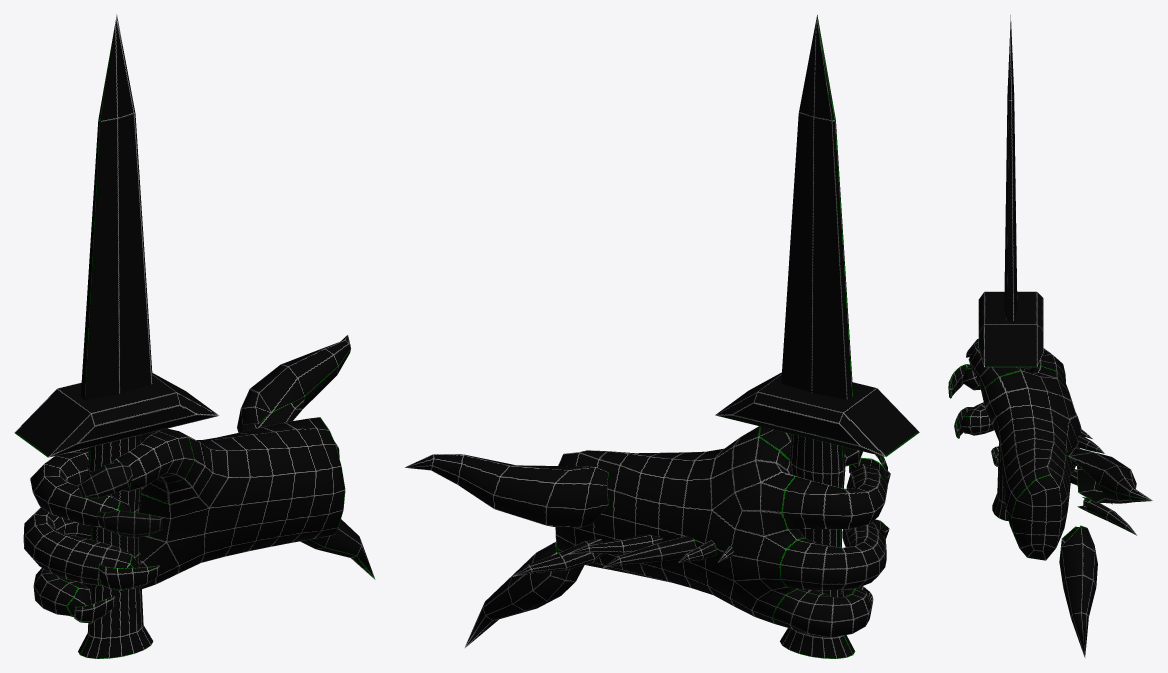
The model's file is right.fbx.
The picture shows the model from 3 angles, left to right: view 1: azimuth 30°, elevation 25°; view 2: azimuth 150°, elevation 25°; view 3: azimuth 270°, elevation 25°; orthographic projection. The views are drawn at different scales.
Visible parts, largest first — view 1: MAW135_018, Box002, Box001, MAW138_014, Cylinder002, MAW138_007; view 2: MAW135_018, Box002, MAW138_014, Box001, Cylinder002, MAW138_004; view 3: MAW135_018, MAW138_014, Box001, Box002, MAW138_004, MAW138_007, Cylinder002.
Part boxes in pixels (x1,y1,x2,y2): MAW135_018: [23, 417, 345, 617]; Box002: [80, 14, 152, 400]; Box001: [14, 373, 219, 457]; MAW138_014: [237, 335, 375, 579]; Cylinder002: [78, 435, 153, 658]; MAW138_007: [74, 462, 162, 623]; MAW135_018: [555, 426, 887, 637]; Box002: [781, 15, 853, 399]; MAW138_014: [405, 454, 608, 648]; Box001: [715, 372, 919, 456]; Cylinder002: [780, 434, 855, 658]; MAW138_004: [513, 534, 733, 576]; MAW135_018: [960, 347, 1081, 560]; MAW138_014: [1059, 447, 1152, 658]; Box001: [978, 291, 1043, 367]; Box002: [1004, 15, 1017, 320]; MAW138_004: [1070, 429, 1137, 535]; MAW138_007: [948, 338, 998, 466]; Cylinder002: [992, 367, 1025, 521].
Bounding box in the file's own units: 29.78 × 47.14 × 16.6.
